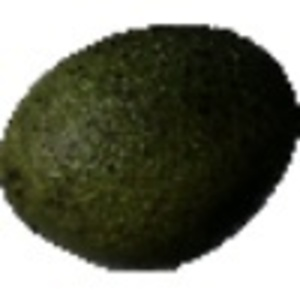abacate: (3, 24, 297, 273)
